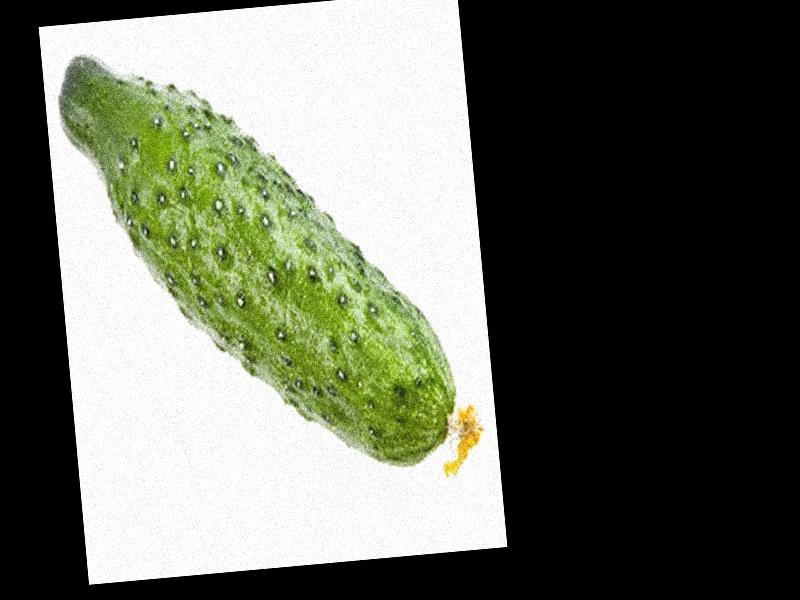Cucumber: (56, 22, 486, 506)
